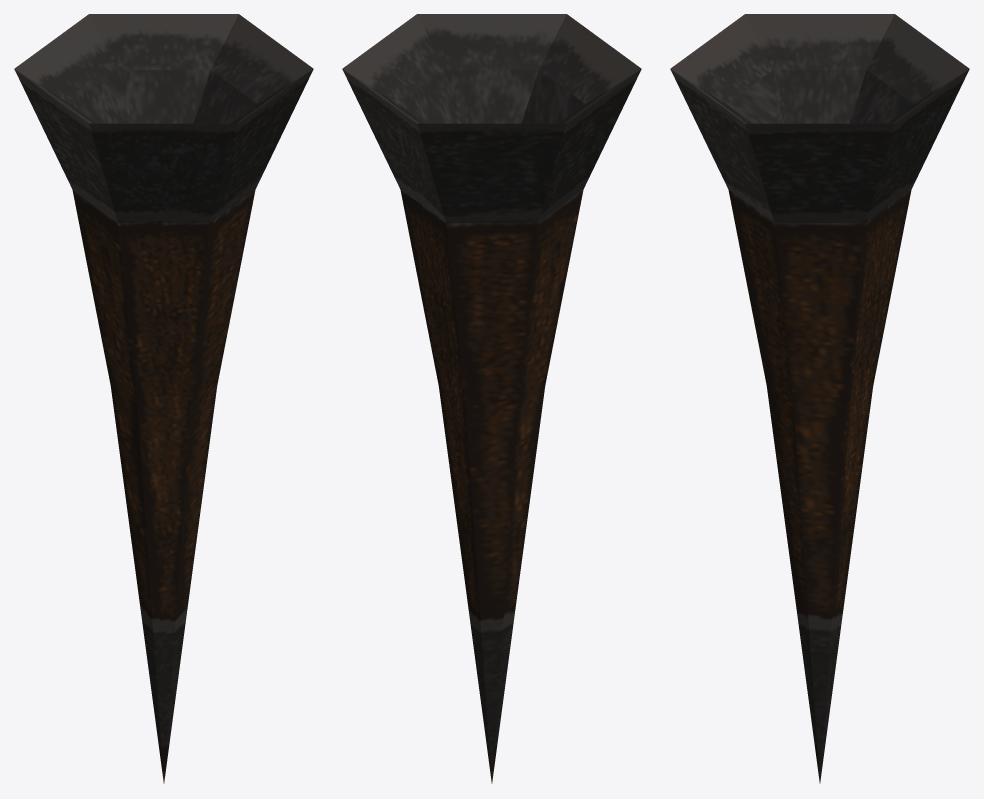
Rendered from Torch.fbx.
The picture shows the model from 3 angles, left to right: view 1: azimuth 30°, elevation 25°; view 2: azimuth 150°, elevation 25°; view 3: azimuth 270°, elevation 25°; orthographic projection.
Parts seen in each view (by area): view 1: Torch; view 2: Torch; view 3: Torch.
Boxes of the visible parts, <box> form: Torch: <box>14,14,313,783</box>; Torch: <box>342,14,641,783</box>; Torch: <box>670,14,969,783</box>.
Bounding box in the file's own units: 22.83 × 69.53 × 26.37.
1 material, 1 textured.
